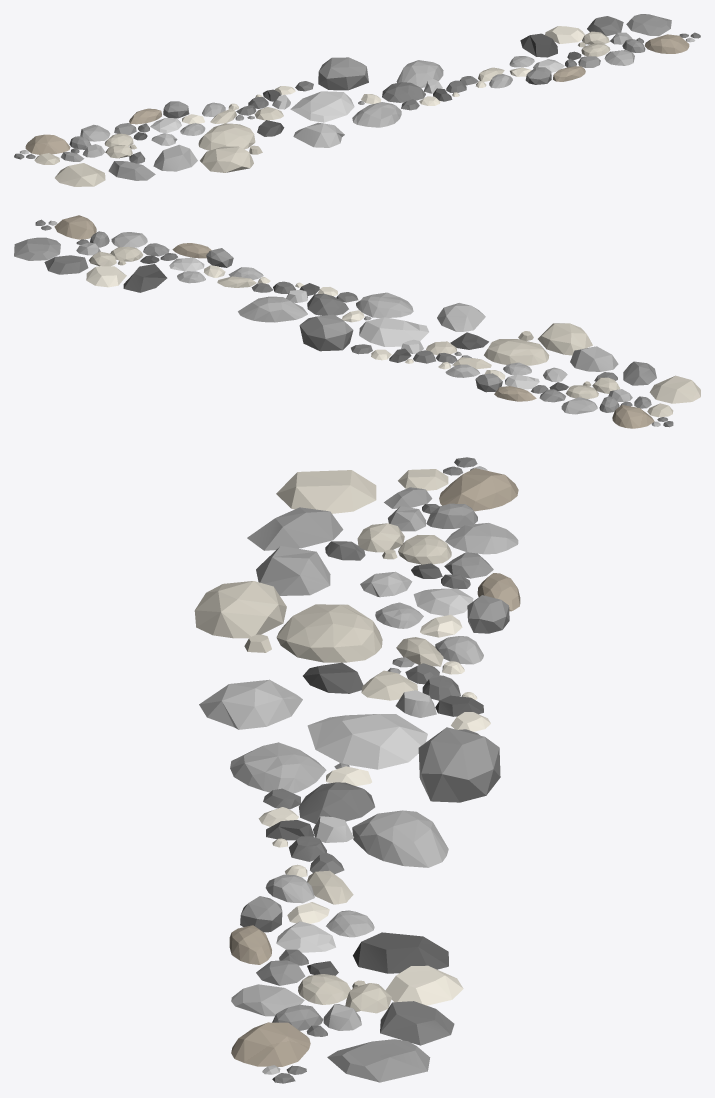
The model's file is EA03_Environment_RoadIsland_09a.glb.
3 renders of one model, top to bottom at view 1: azimuth 30°, elevation 25°; view 2: azimuth 150°, elevation 25°; view 3: azimuth 270°, elevation 25°, orthographic. The views are drawn at different scales.
Parts seen in each view (by area): view 1: EA03_Environment_RoadIsland_09a; view 2: EA03_Environment_RoadIsland_09a; view 3: EA03_Environment_RoadIsland_09a.
Boxes of the visible parts, bbox=[...] form: EA03_Environment_RoadIsland_09a: bbox=[14, 14, 700, 186]; EA03_Environment_RoadIsland_09a: bbox=[14, 215, 700, 428]; EA03_Environment_RoadIsland_09a: bbox=[194, 457, 520, 1083].
Size of the model in its own units: 18.04 by 0.626 by 3.97.
Materials: 1 (1 with a texture image).
